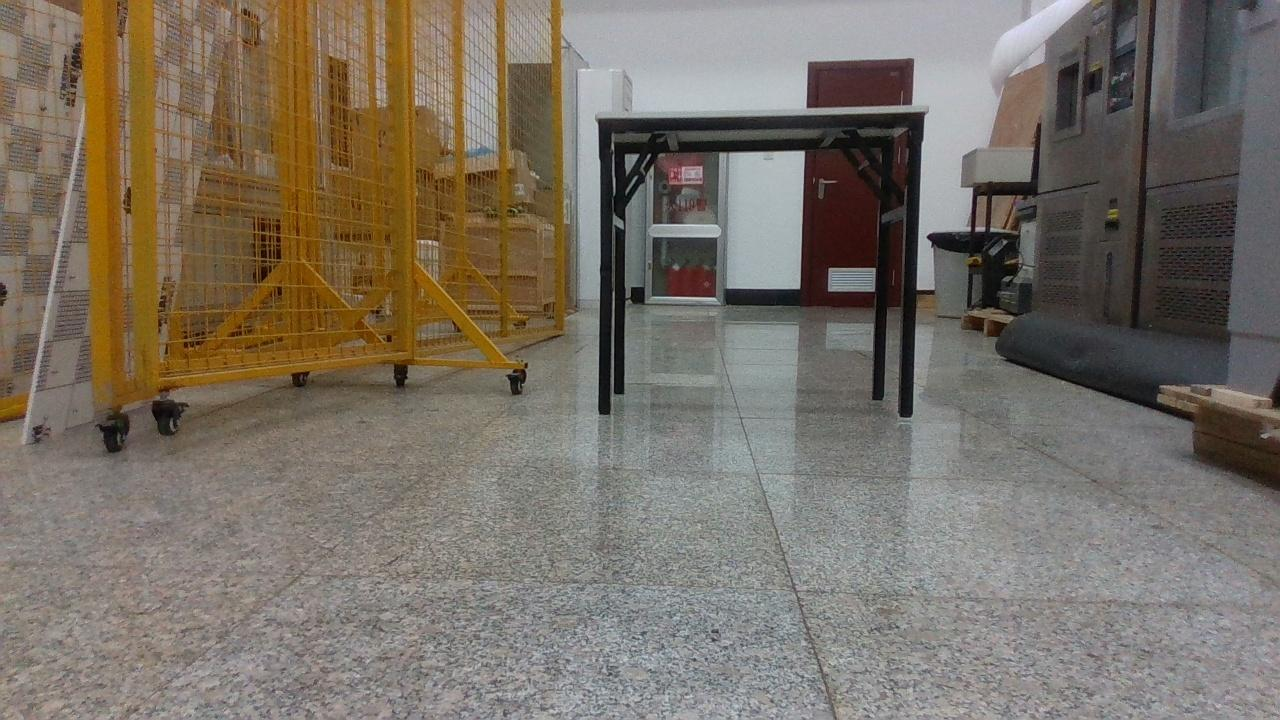table: (595, 105, 928, 419)
